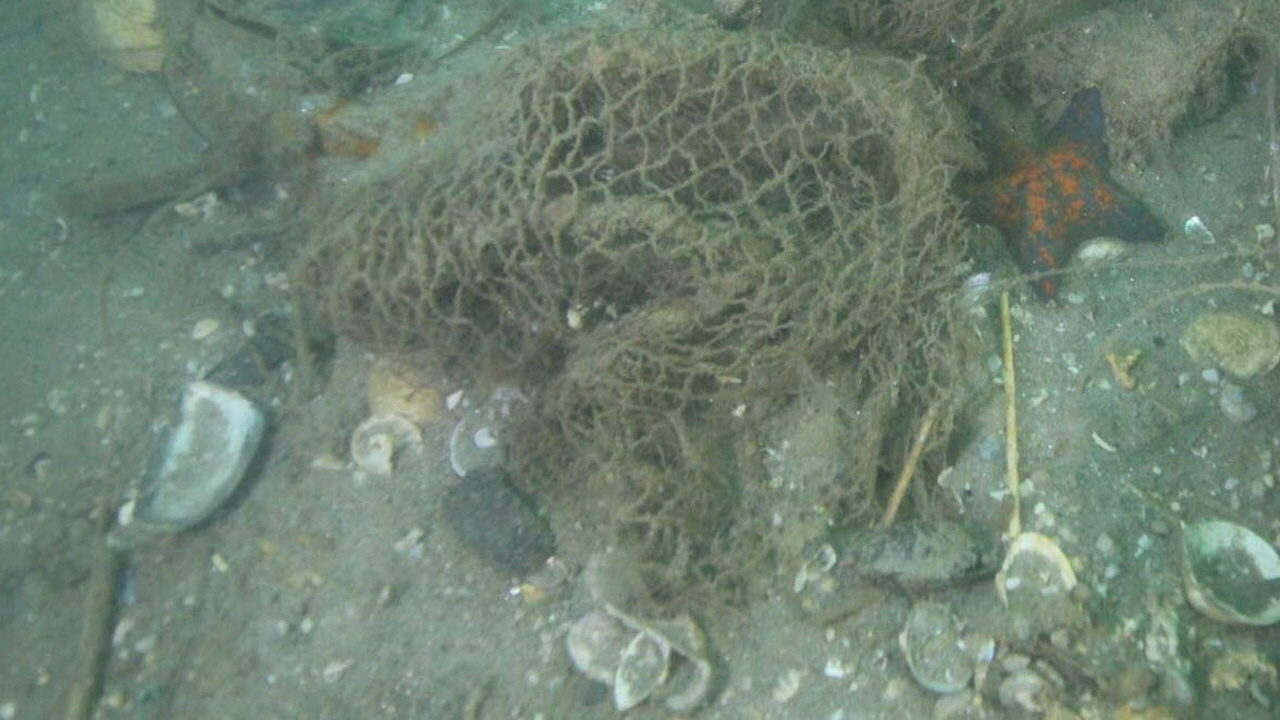fish net: (333, 29, 969, 453)
